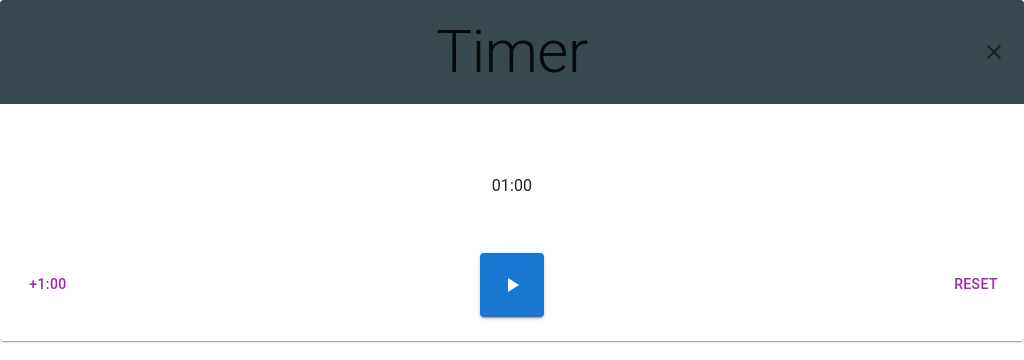
Scenario: Timer › reset button › pauses and resets the timer to the current duration
The image size is (1024, 360).
Check: the text "01:00" is shown, box [492,174,532,198]
Step 1. Click the button named "PLAY" → click(512, 284), box [480,252,544,316]
Wait 16000 ms
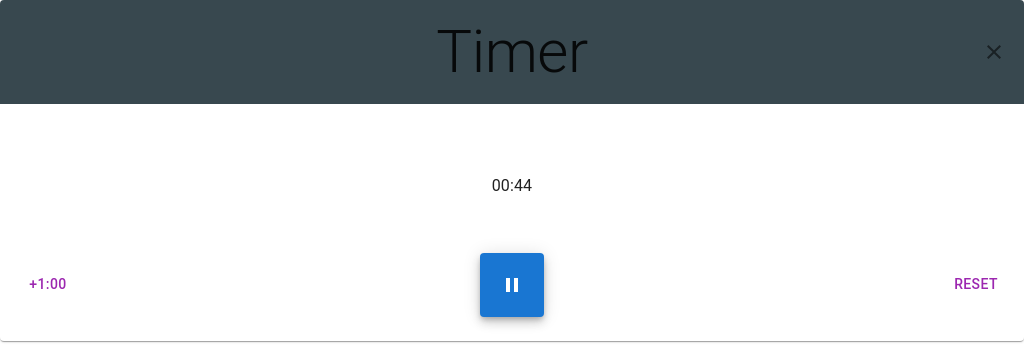
Check: the text "00:44" is shown, box [492,174,532,198]
Step 2. Click the button "Reset" → click(976, 284), box [944,252,1008,316]
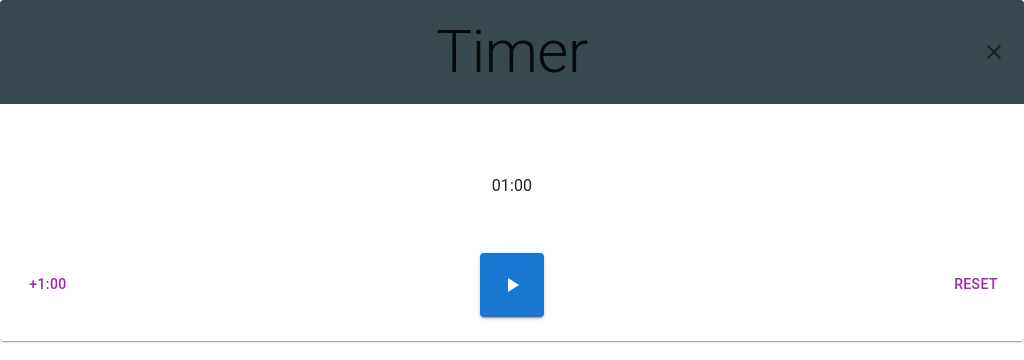
Check: the text "01:00" is shown, box [492,174,532,198]
Step 3. Click the button named "PLAY" → click(512, 284), box [480,252,544,316]
Wait 30000 ms
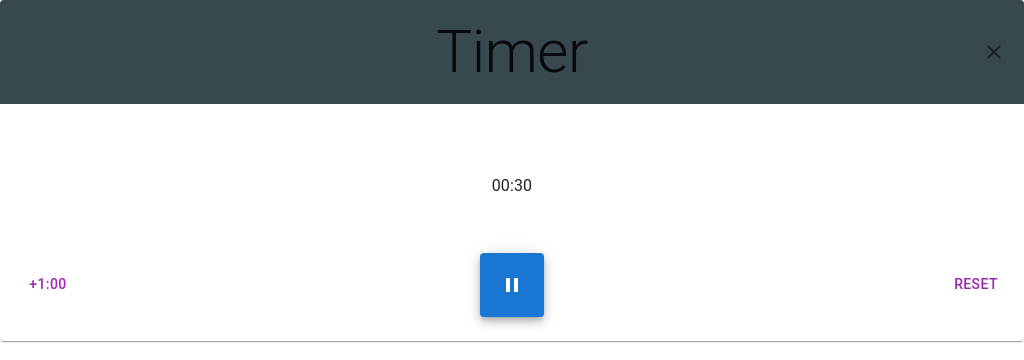
Check: the text "00:30" is shown, box [492,174,532,198]
Step 4. Click the button "+1:00" → click(48, 284), box [16,252,80,316]
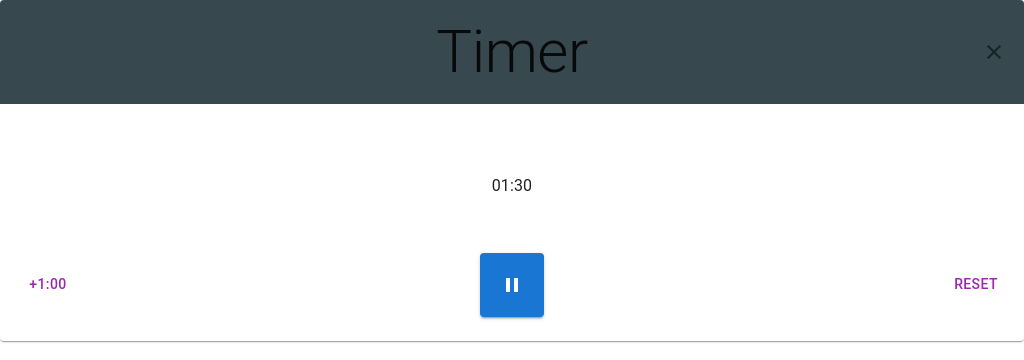
Check: the text "01:30" is shown, box [492,174,532,198]
Step 5. Click the button "Reset" → click(976, 284), box [944,252,1008,316]
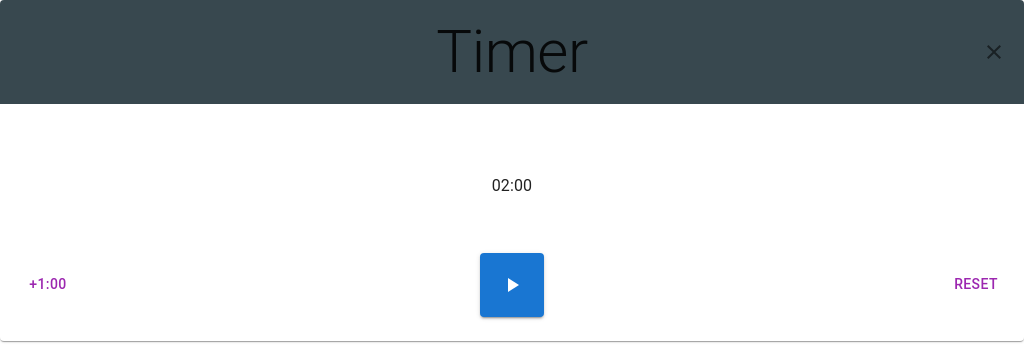
Check: the text "02:00" is shown, box [492,174,532,198]
